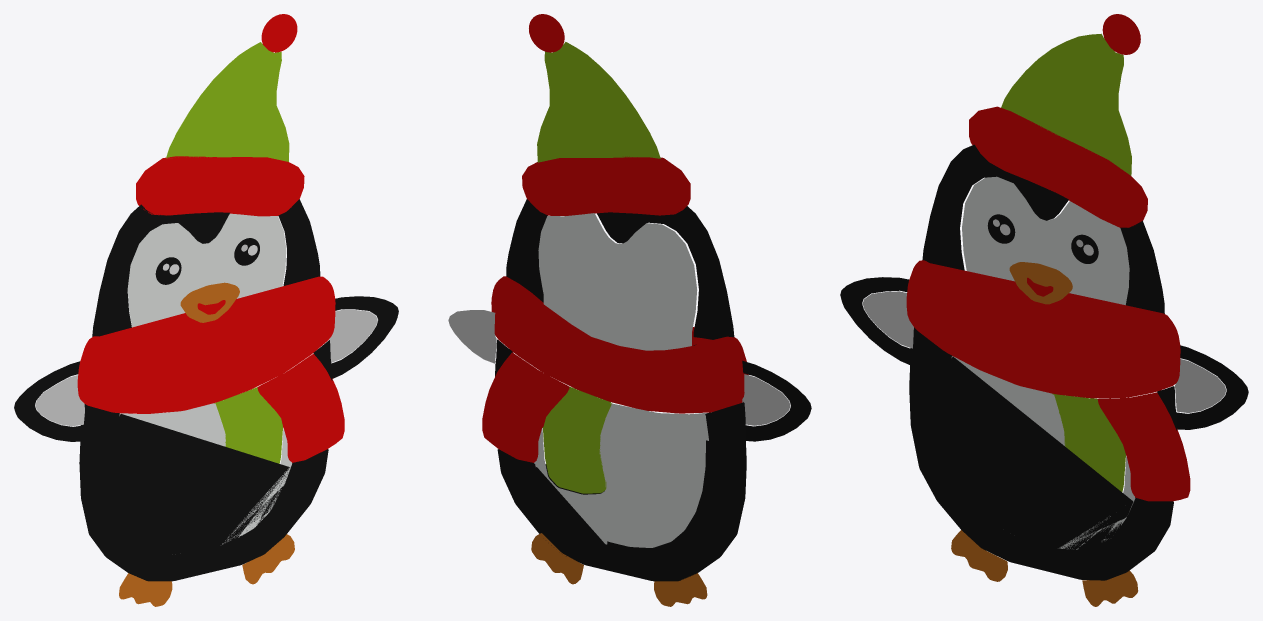
File: penguin.fbx
The picture shows the model from 3 angles, left to right: view 1: azimuth 30°, elevation 25°; view 2: azimuth 150°, elevation 25°; view 3: azimuth 330°, elevation 25°; orthographic projection. The views are drawn at different scales.
Visible parts, largest first — view 1: 11, 7, 6, 1, 2, 9, 4, 8, 10, 5, 17.001, 17 (+6 smaller); view 2: 6, 7, 11, 10, 1, 2, 9, 8, 4, 5, 17.001, 19 (+4 smaller); view 3: 11, 7, 6, 1, 2, 9, 4, 8, 10, 5, 17.001, 17 (+6 smaller).
Part boxes in pixels (left/top/right/bottom): 11: left=79, top=404, right=328, bottom=581; 7: left=77, top=276, right=335, bottom=413; 6: left=127, top=213, right=286, bottom=327; 1: left=166, top=42, right=289, bottom=161; 2: left=136, top=156, right=304, bottom=216; 9: left=257, top=353, right=344, bottom=462; 4: left=92, top=204, right=229, bottom=336; 8: left=214, top=387, right=282, bottom=463; 10: left=119, top=403, right=292, bottom=544; 5: left=278, top=199, right=320, bottom=285; 17.001: left=14, top=361, right=84, bottom=441; 17: left=331, top=296, right=398, bottom=378; 6: left=538, top=213, right=697, bottom=350; 7: left=491, top=276, right=748, bottom=413; 11: left=497, top=402, right=746, bottom=581; 10: left=534, top=403, right=708, bottom=547; 1: left=537, top=42, right=660, bottom=162; 2: left=522, top=156, right=690, bottom=215; 9: left=482, top=352, right=569, bottom=462; 8: left=542, top=387, right=611, bottom=493; 4: left=597, top=206, right=734, bottom=345; 5: left=506, top=199, right=547, bottom=302; 17.001: left=742, top=360, right=811, bottom=441; 19: left=448, top=310, right=496, bottom=363; 11: left=909, top=327, right=1173, bottom=580; 7: left=906, top=260, right=1180, bottom=398; 6: left=962, top=176, right=1129, bottom=305; 1: left=1001, top=33, right=1131, bottom=175; 2: left=969, top=106, right=1147, bottom=227; 9: left=1097, top=392, right=1190, bottom=501; 4: left=922, top=144, right=1068, bottom=270; 8: left=1052, top=393, right=1125, bottom=491; 10: left=951, top=356, right=1135, bottom=549; 5: left=1120, top=221, right=1164, bottom=313; 17.001: left=840, top=277, right=913, bottom=366; 17: left=1176, top=345, right=1248, bottom=429.
Bounding box in the file's own units: 188 × 3.86 × 134.
